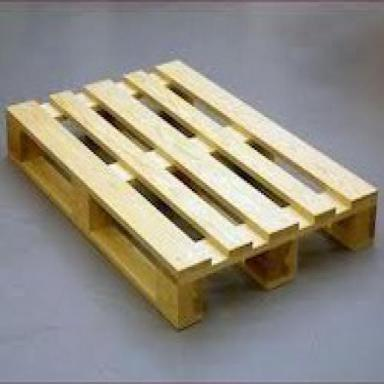pallet: (5, 58, 377, 330)
